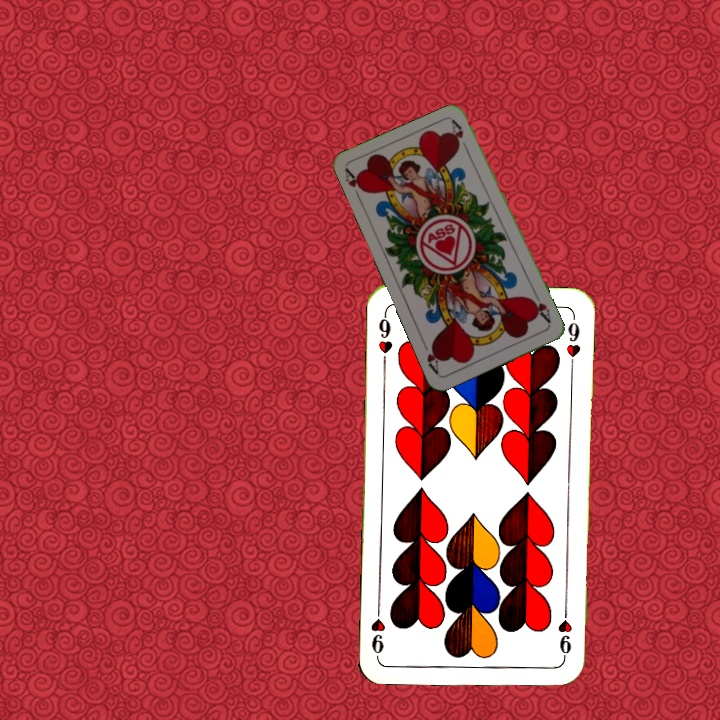H9: (374, 308, 395, 367), (554, 602, 574, 662)
HA: (341, 165, 368, 204), (526, 289, 553, 326)
